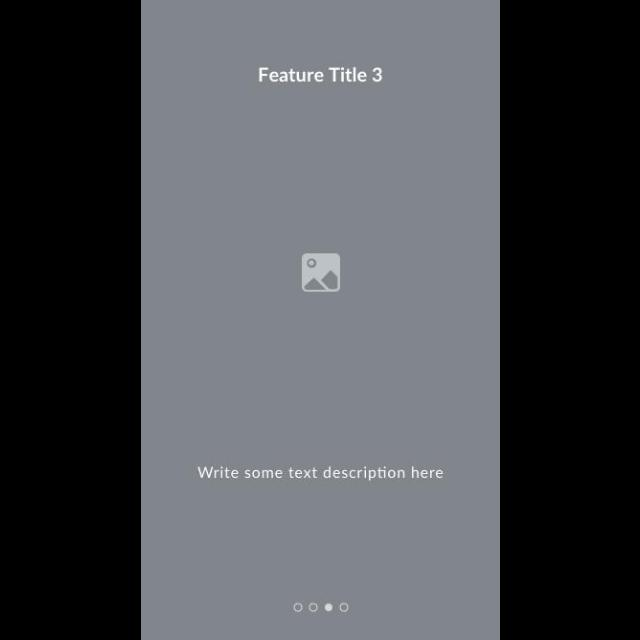image: (302, 254, 341, 292)
pageindicator: (292, 602, 348, 612)
text: (198, 464, 442, 482), (258, 67, 382, 83)
